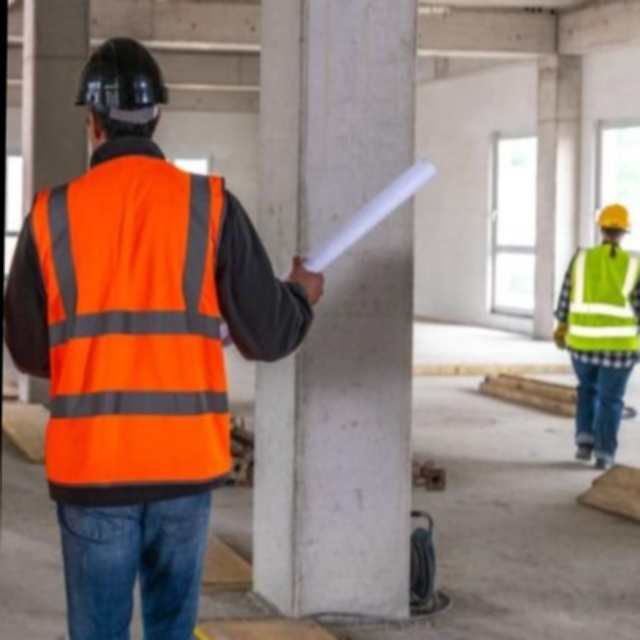Con_Chaleco: (28, 163, 232, 493), (562, 246, 640, 366)
